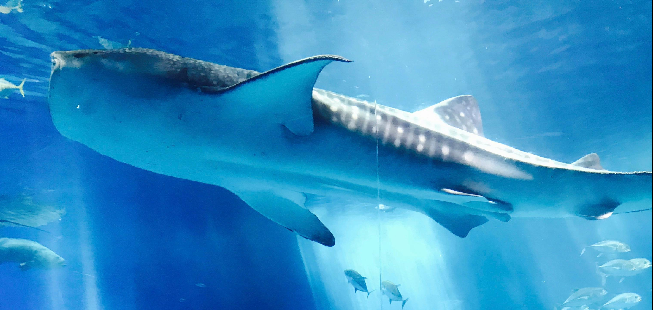fishLarge: (0, 236, 67, 273), (597, 256, 651, 287), (555, 285, 608, 308), (342, 267, 375, 299), (379, 276, 410, 309), (579, 237, 631, 256), (592, 260, 638, 279), (603, 290, 642, 309), (0, 76, 27, 103)
